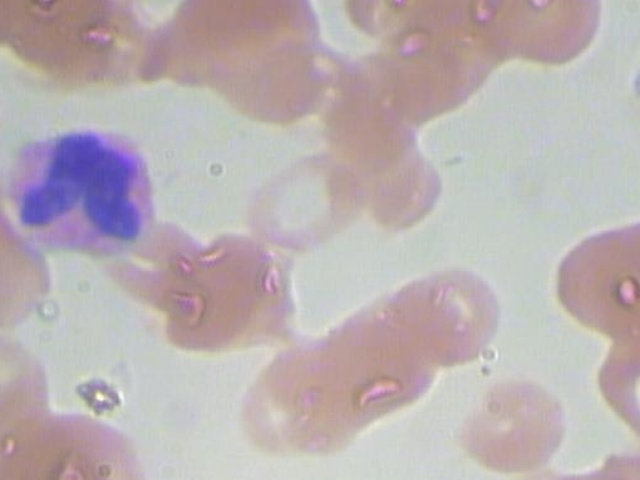RBC: (244, 145, 374, 253), (209, 22, 339, 130), (227, 340, 357, 448), (447, 372, 575, 475), (548, 206, 640, 334), (400, 260, 509, 362), (475, 0, 605, 77), (0, 237, 62, 333), (590, 331, 640, 439), (582, 446, 640, 480)
WBC: (0, 121, 171, 256)
